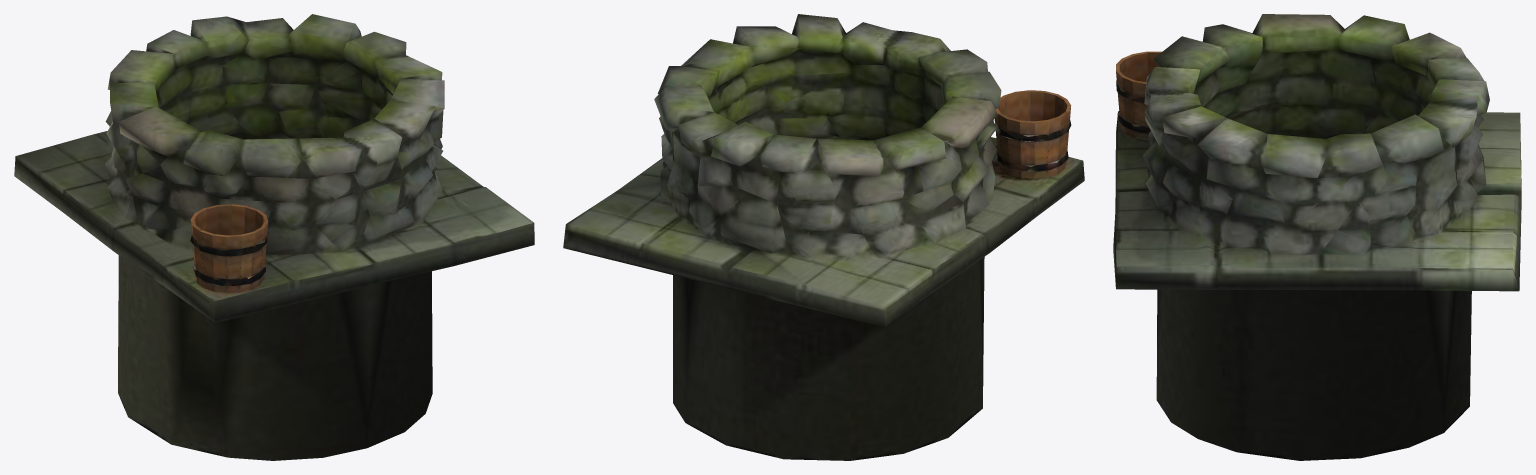
Rendered from well_far.glb.
The picture shows the model from 3 angles, left to right: view 1: azimuth 30°, elevation 25°; view 2: azimuth 150°, elevation 25°; view 3: azimuth 270°, elevation 25°; orthographic projection.
Visible parts, largest first — view 1: well_lod1; view 2: well_lod1; view 3: well_lod1.
Boxes of the visible parts, <box> form: well_lod1: <box>14,14,534,460</box>; well_lod1: <box>563,14,1084,460</box>; well_lod1: <box>1113,14,1521,460</box>.
Bounding box in the file's own units: 1.88 × 1.71 × 2.02.
1 material, 1 textured.
